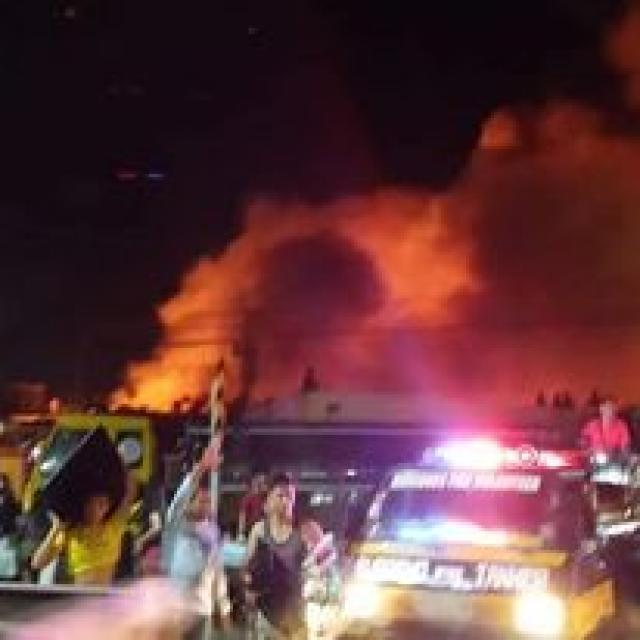Fire: (110, 321, 222, 418)
Smoke: (133, 96, 640, 406)
